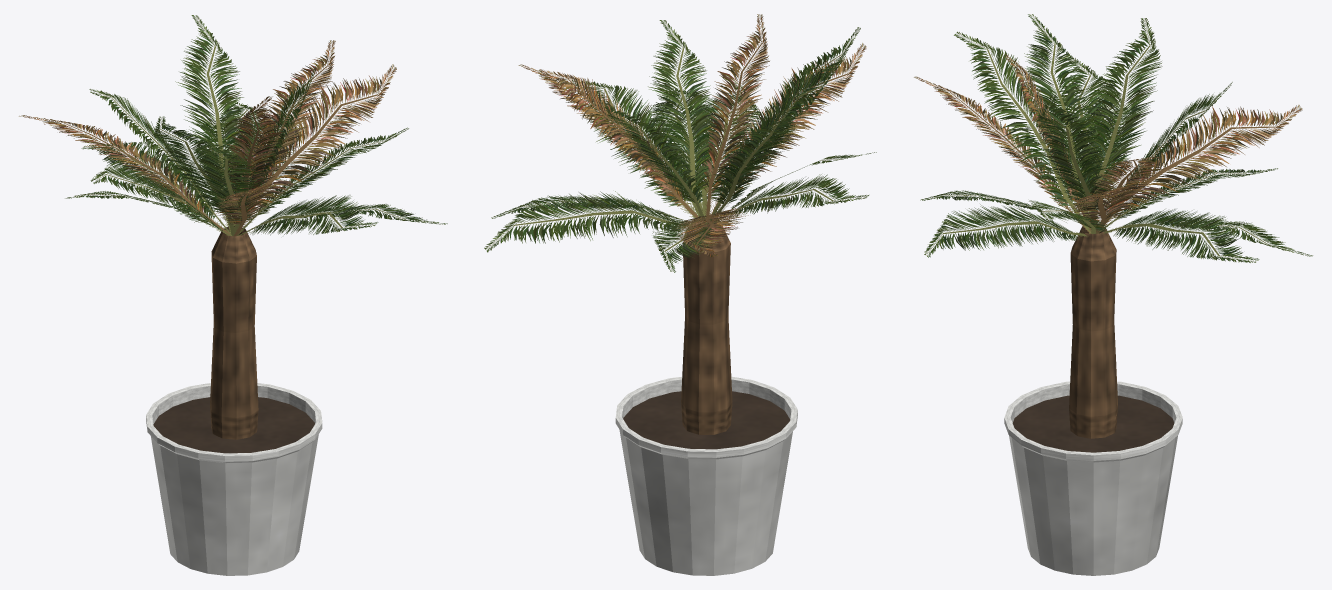
The model's file is SM_Molo_PalmaVaso.fbx.
3 views of the same model, side by side, from view 1: azimuth 30°, elevation 25°; view 2: azimuth 150°, elevation 25°; view 3: azimuth 270°, elevation 25° (orthographic). The views are drawn at different scales.
Visible parts, largest first — view 1: SM_Molo_PalmaVaso; view 2: SM_Molo_PalmaVaso; view 3: SM_Molo_PalmaVaso.
Part boxes in pixels (x1,y1,x2,y2): SM_Molo_PalmaVaso: (19,15,447,575); SM_Molo_PalmaVaso: (484,14,876,575); SM_Molo_PalmaVaso: (914,14,1312,575).
Size of what is drawn, in the model's own units: 249 by 261 by 346.
Materials: 2 (2 with a texture image).
